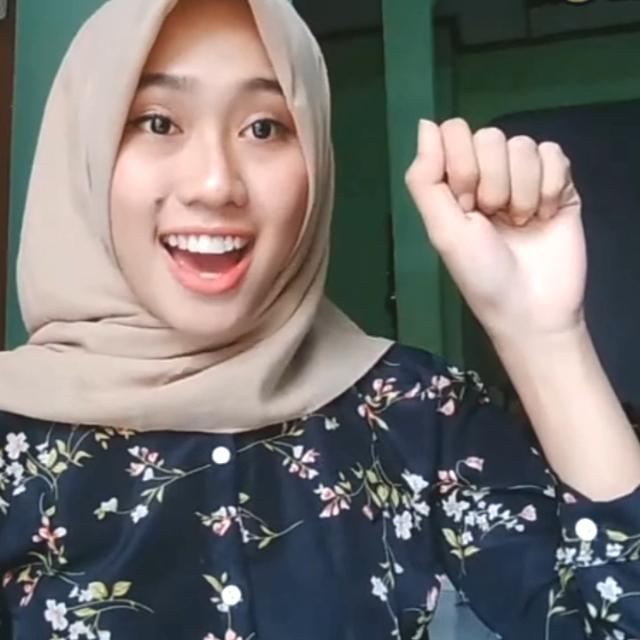A: (397, 110, 596, 350)
